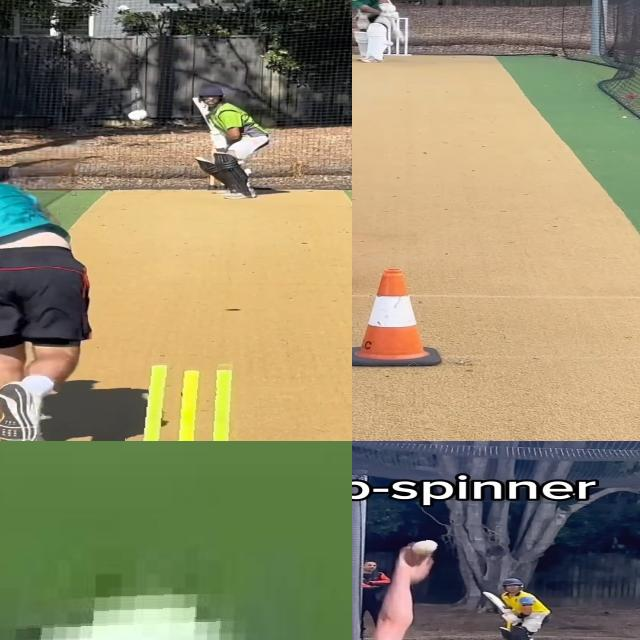Cricket ball: (127, 106, 151, 126), (412, 540, 439, 555), (384, 40, 396, 46)
Stumps: (125, 357, 262, 441)
